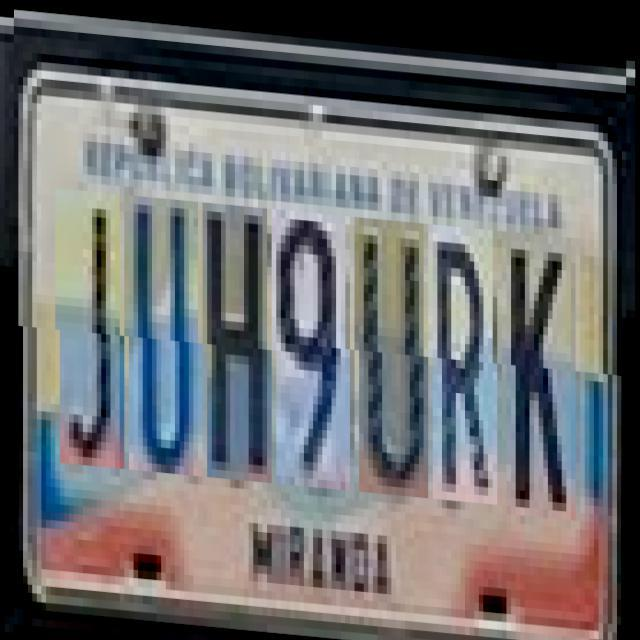9: (276, 204, 350, 484)
H: (207, 198, 272, 478)
J: (60, 188, 124, 467)
K: (506, 221, 576, 509)
R: (432, 216, 498, 494)
U: (129, 192, 203, 472), (359, 210, 428, 490)
